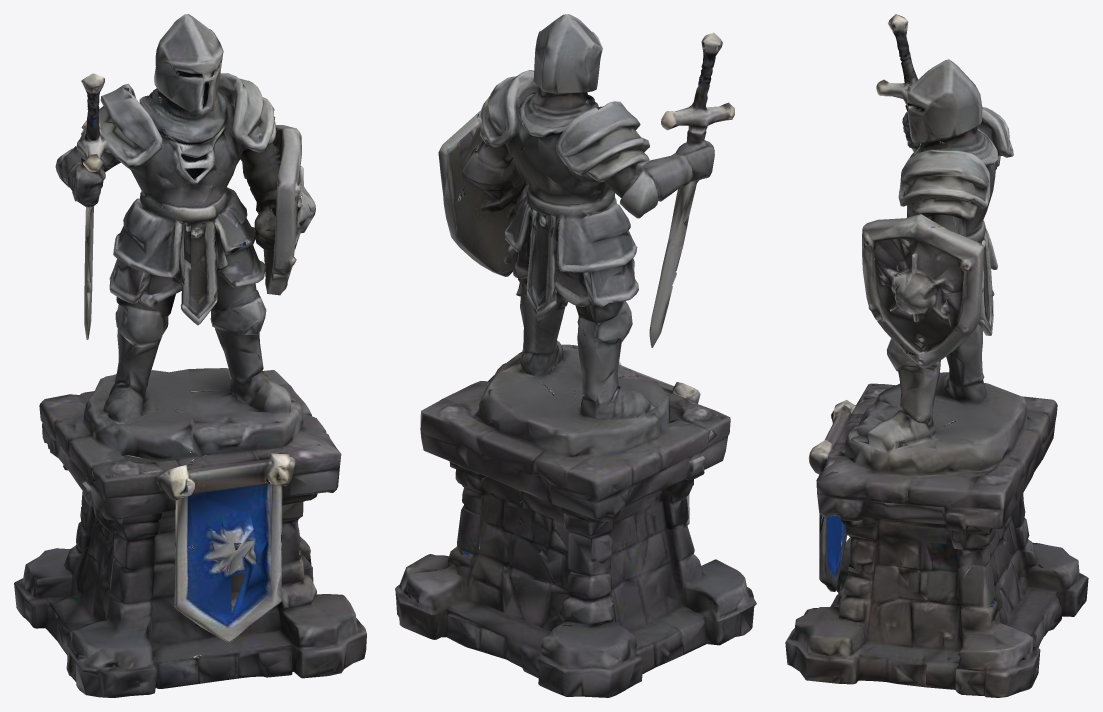
The model's file is statue-human.glb.
The picture shows the model from 3 angles, left to right: view 1: azimuth 30°, elevation 25°; view 2: azimuth 150°, elevation 25°; view 3: azimuth 270°, elevation 25°; orthographic projection. The views are drawn at different scales.
Visible parts, largest first — view 1: tripo_node_0020c1da-9997-4e1b-a986-fd43710b7709; view 2: tripo_node_0020c1da-9997-4e1b-a986-fd43710b7709; view 3: tripo_node_0020c1da-9997-4e1b-a986-fd43710b7709.
Part boxes in pixels (x1,y1,x2,y2): tripo_node_0020c1da-9997-4e1b-a986-fd43710b7709: (14, 14, 366, 697); tripo_node_0020c1da-9997-4e1b-a986-fd43710b7709: (395, 14, 756, 697); tripo_node_0020c1da-9997-4e1b-a986-fd43710b7709: (785, 14, 1088, 697).
Bounding box in the file's own units: 0.4798 × 0.9775 × 0.4665.
Materials: 1 (1 with a texture image).
